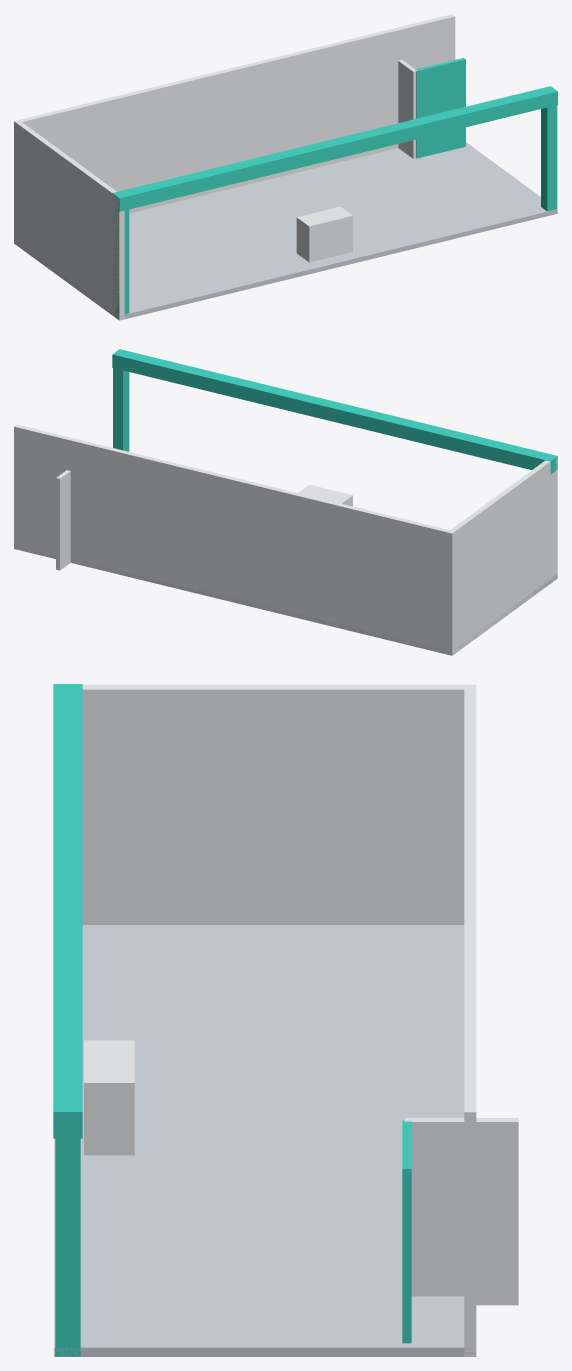
3 views of the same model, one above another, from view 1: azimuth 30°, elevation 25°; view 2: azimuth 150°, elevation 25°; view 3: azimuth 270°, elevation 25° (orthographic). The views are drawn at different scales.
Parts seen in each view (by area): view 1: Exhibition Booth Concept; view 2: Exhibition Booth Concept; view 3: Exhibition Booth Concept.
Part boxes in pixels (x1,y1,x2,y2): Exhibition Booth Concept: (14,14,557,320); Exhibition Booth Concept: (14,349,557,655); Exhibition Booth Concept: (53,684,518,1356).
Bounding box in the file's own units: 12 × 3.2 × 5.52.
